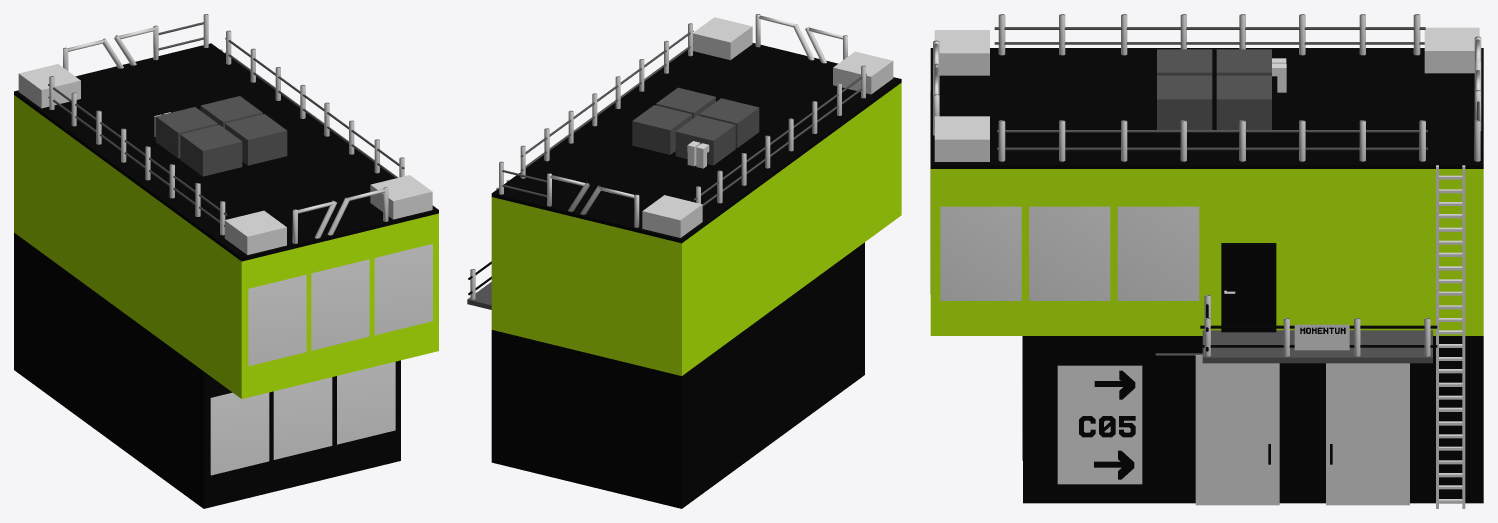
The model's file is bat_2.fbx.
The picture shows the model from 3 angles, left to right: view 1: azimuth 30°, elevation 25°; view 2: azimuth 150°, elevation 25°; view 3: azimuth 270°, elevation 25°; orthographic projection. The views are drawn at different scales.
Visible parts, largest first — view 1: Cube.001, Cube, Cube.006, Cube.020, Cube.010, Cube.016, Cube.017, Cube.018, Cylinder.001, Cylinder.002, Cube.008, Cylinder.021 (+3 smaller); view 2: Cube.001, Cube, Cube.006, Cube.010, Cylinder.001, Cylinder.002, Cube.008, Cylinder.022, Cylinder.021, Cylinder.024; view 3: Cube.001, Cube.006, Cube, Cube.019, Cube.021, Cube.010, Plane.001, Cube.014, Cube.015, Cube.013, Cube.002, Cube.004 (+12 smaller).
Boxes of the visible parts, x1=… form: Cube.001: x1=14, y1=95, x2=438, y2=398; Cube: x1=14, y1=232, x2=400, y2=508; Cube.006: x1=14, y1=43, x2=438, y2=261; Cube.020: x1=210, y1=361, x2=395, y2=475; Cube.010: x1=155, y1=96, x2=287, y2=176; Cube.016: x1=248, y1=275, x2=306, y2=366; Cube.017: x1=374, y1=244, x2=432, y2=335; Cube.018: x1=311, y1=259, x2=369, y2=350; Cylinder.001: x1=292, y1=175, x2=432, y2=243; Cylinder.002: x1=18, y1=25, x2=158, y2=108; Cube.008: x1=224, y1=210, x2=286, y2=254; Cylinder.021: x1=225, y1=37, x2=404, y2=169; Cube.001: x1=491, y1=83, x2=901, y2=375; Cube: x1=491, y1=242, x2=864, y2=508; Cube.006: x1=491, y1=43, x2=901, y2=243; Cube.010: x1=632, y1=87, x2=759, y2=165; Cylinder.001: x1=693, y1=14, x2=847, y2=63; Cylinder.002: x1=547, y1=173, x2=702, y2=237; Cube.008: x1=833, y1=51, x2=893, y2=94; Cylinder.022: x1=520, y1=44, x2=693, y2=171; Cylinder.021: x1=520, y1=30, x2=693, y2=157; Cylinder.024: x1=693, y1=74, x2=866, y2=200; Cube.001: x1=930, y1=169, x2=1483, y2=335; Cube.006: x1=930, y1=48, x2=1483, y2=168; Cube: x1=1023, y1=336, x2=1483, y2=503; Cube.019: x1=1195, y1=355, x2=1279, y2=505; Cube.021: x1=1326, y1=363, x2=1409, y2=505; Cube.010: x1=1157, y1=49, x2=1271, y2=129; Plane.001: x1=1057, y1=365, x2=1142, y2=484; Cube.014: x1=1117, y1=206, x2=1199, y2=300; Cube.015: x1=940, y1=206, x2=1021, y2=300; Cube.013: x1=1029, y1=206, x2=1110, y2=300; Cube.002: x1=1202, y1=330, x2=1432, y2=363; Cube.004: x1=1436, y1=165, x2=1465, y2=508.
Bounding box in the file's own units: 747 × 915 × 1201.
